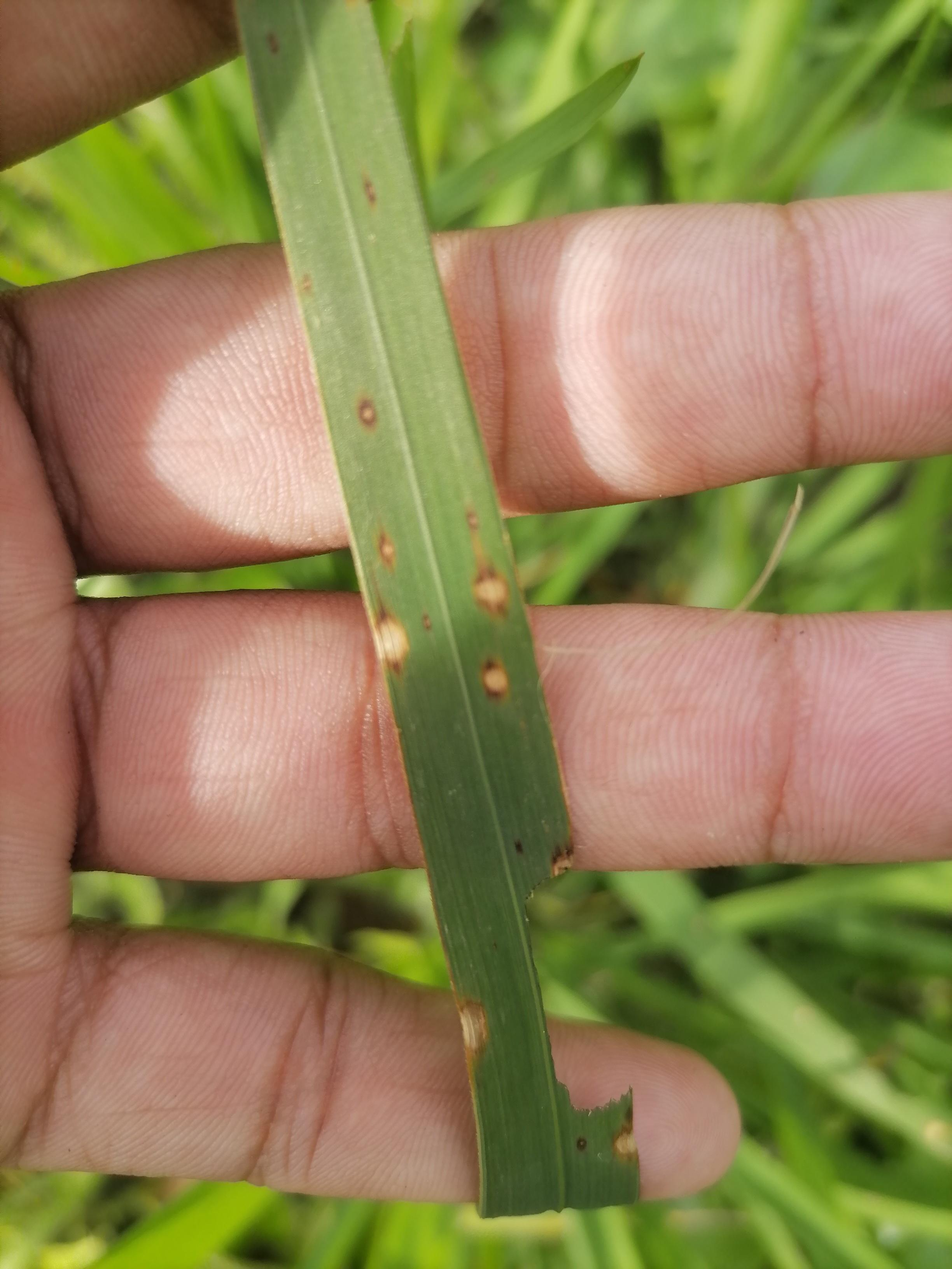Brown spot: (369, 608, 428, 684), (482, 653, 523, 721), (463, 997, 502, 1067), (344, 381, 393, 433), (471, 564, 519, 616), (377, 531, 416, 570)
